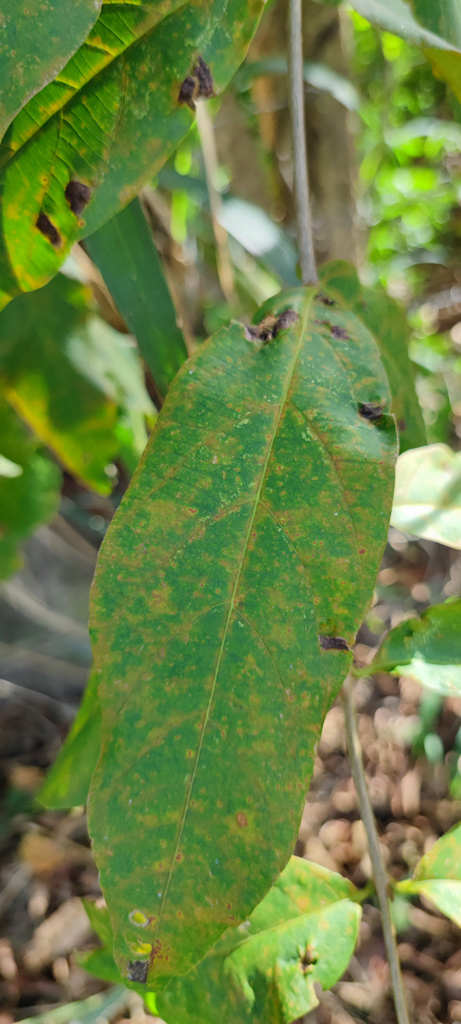frog-eye leafspot: (90, 283, 404, 996), (5, 5, 277, 319), (116, 860, 367, 1020)
